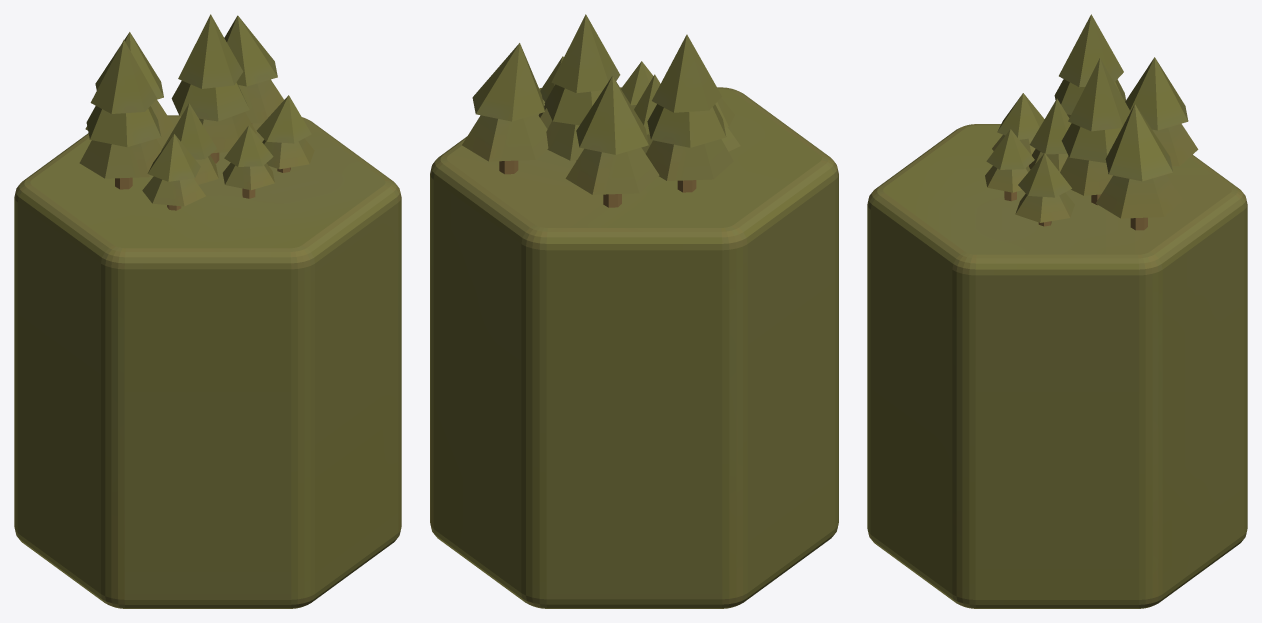
File: Hex-forest2.glb
3 views of the same model, side by side, from view 1: azimuth 30°, elevation 25°; view 2: azimuth 150°, elevation 25°; view 3: azimuth 270°, elevation 25° (orthographic). The views are drawn at different scales.
Visible parts, largest first — view 1: Cylinder, Cylinder.043_Material.001_0; view 2: Cylinder, Cylinder.043_Material.001_0; view 3: Cylinder, Cylinder.043_Material.001_0.
Boxes of the visible parts, <box> form: Cylinder: <box>14,115,401,608</box>; Cylinder.043_Material.001_0: <box>79,14,314,210</box>; Cylinder: <box>430,87,838,608</box>; Cylinder.043_Material.001_0: <box>462,14,740,207</box>; Cylinder: <box>867,124,1247,608</box>; Cylinder.043_Material.001_0: <box>985,14,1198,230</box>.
Bounding box in the file's own units: 1.73 × 2.82 × 1.95.
2 materials, 2 textured.
